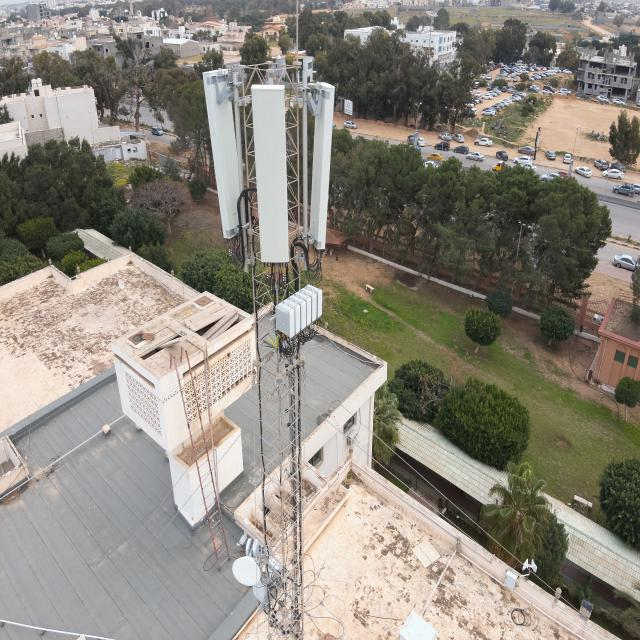antenna: (250, 78, 292, 264), (204, 64, 244, 242), (311, 79, 337, 247)
lighnig-rad: (290, 0, 304, 67)
microware-dish: (232, 538, 261, 586)
power-box: (254, 555, 282, 602)
radio-unit: (276, 281, 323, 335)
